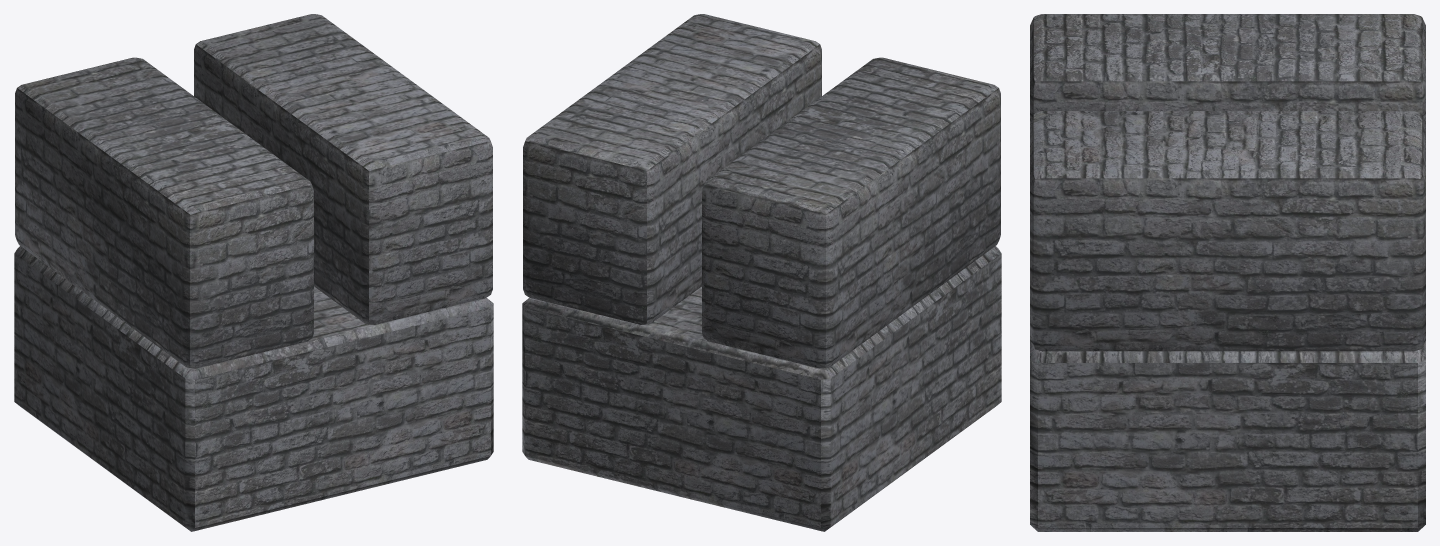
The model's file is castle_crenel_castle.glb.
3 views of the same model, side by side, from view 1: azimuth 30°, elevation 25°; view 2: azimuth 150°, elevation 25°; view 3: azimuth 270°, elevation 25° (orthographic). The views are drawn at different scales.
Parts seen in each view (by area): view 1: cb.001, cm, cm.001; view 2: cb.001, cm, cm.001; view 3: cm.001, cb.001, cm.
Part boxes in pixels (x1,y1,x2,y2): cb.001: (14, 246, 493, 531); cm: (15, 57, 313, 368); cm.001: (194, 14, 492, 324); cb.001: (522, 246, 1001, 531); cm: (702, 57, 1000, 368); cm.001: (523, 14, 821, 324); cm.001: (1030, 111, 1425, 351); cb.001: (1030, 340, 1425, 531); cm: (1030, 14, 1425, 121).
Size of the model in its own units: 1 by 1 by 1.
1 material, 1 textured.
